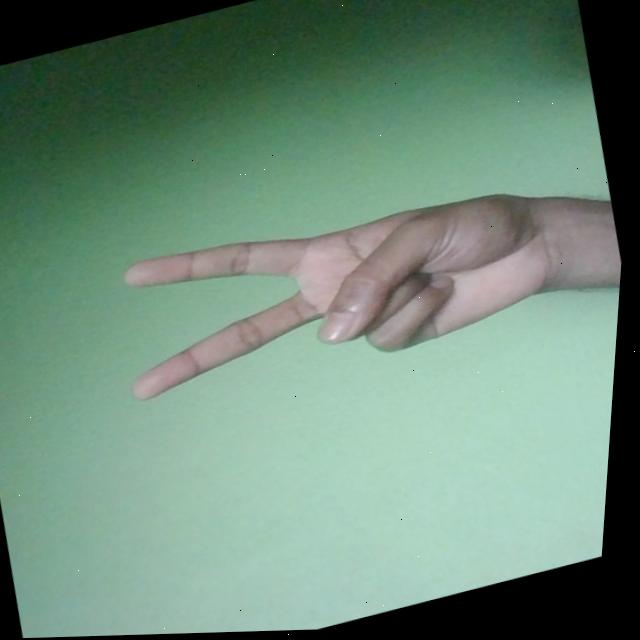Peace: (106, 157, 583, 421)
